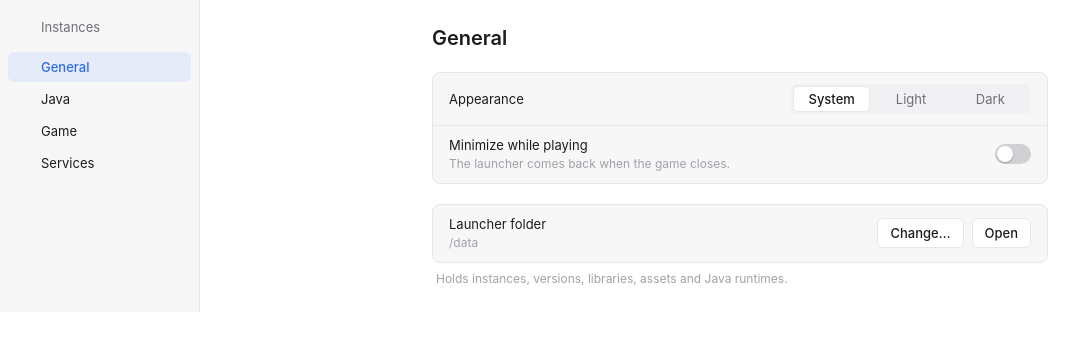
SettingsPage › changes the launcher folder unless busy, and offers the previous one
The width and height of the screenshot is (1065, 346).
Click the button "Change…": (920, 234) [877,218,964,248]
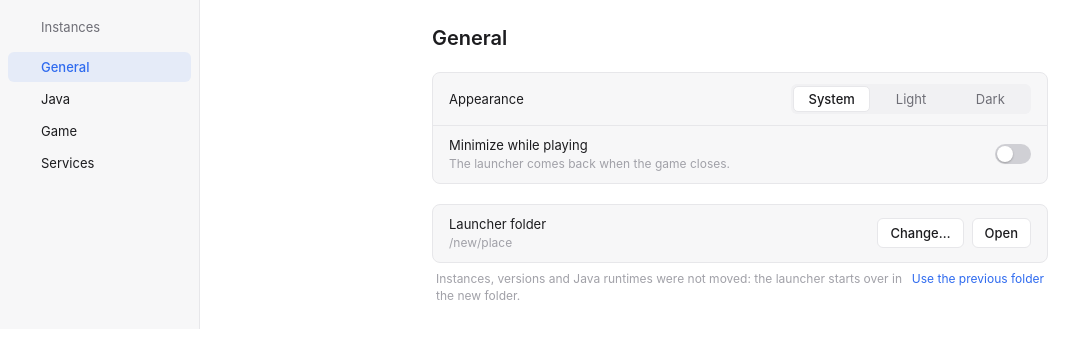
Expected: the text "/new/place" is shown, [449,235,512,250]
Expected: the text "were not moved" is shown, [436,271,902,303]
Click the button "Use the previous folder": (978, 279) [912,271,1044,288]
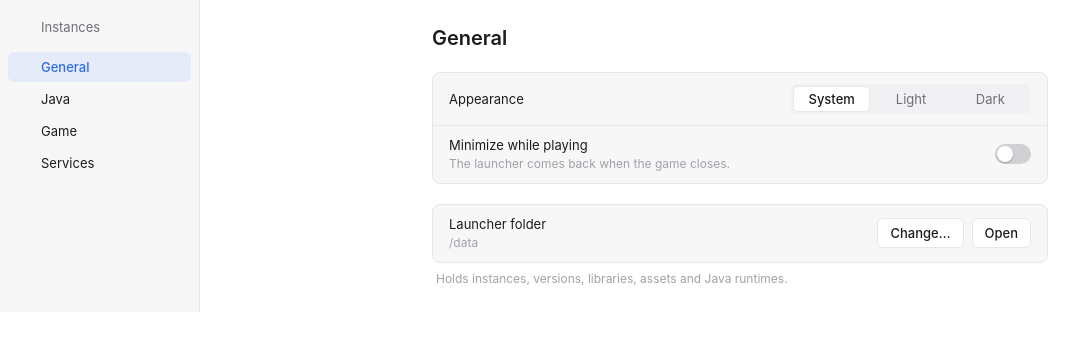
Expected: the text "/data" is shown, [449,235,478,250]
